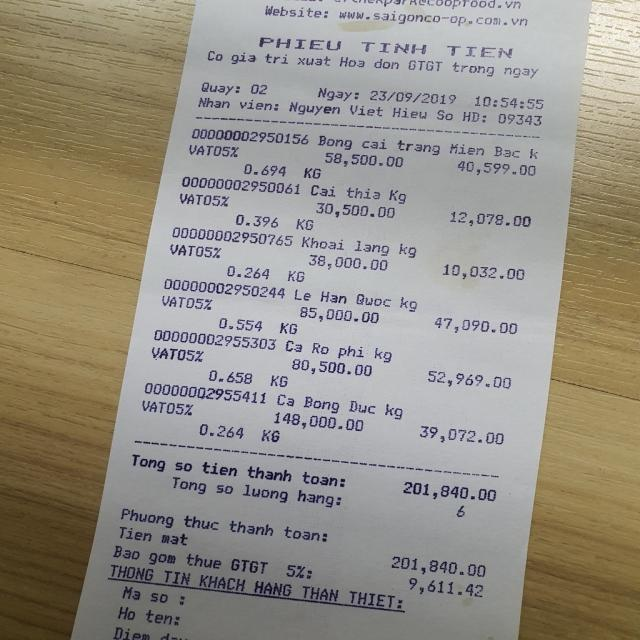Date: (367, 85, 462, 108)
amount_number: (397, 473, 501, 505)
label_total: (127, 451, 350, 492)
